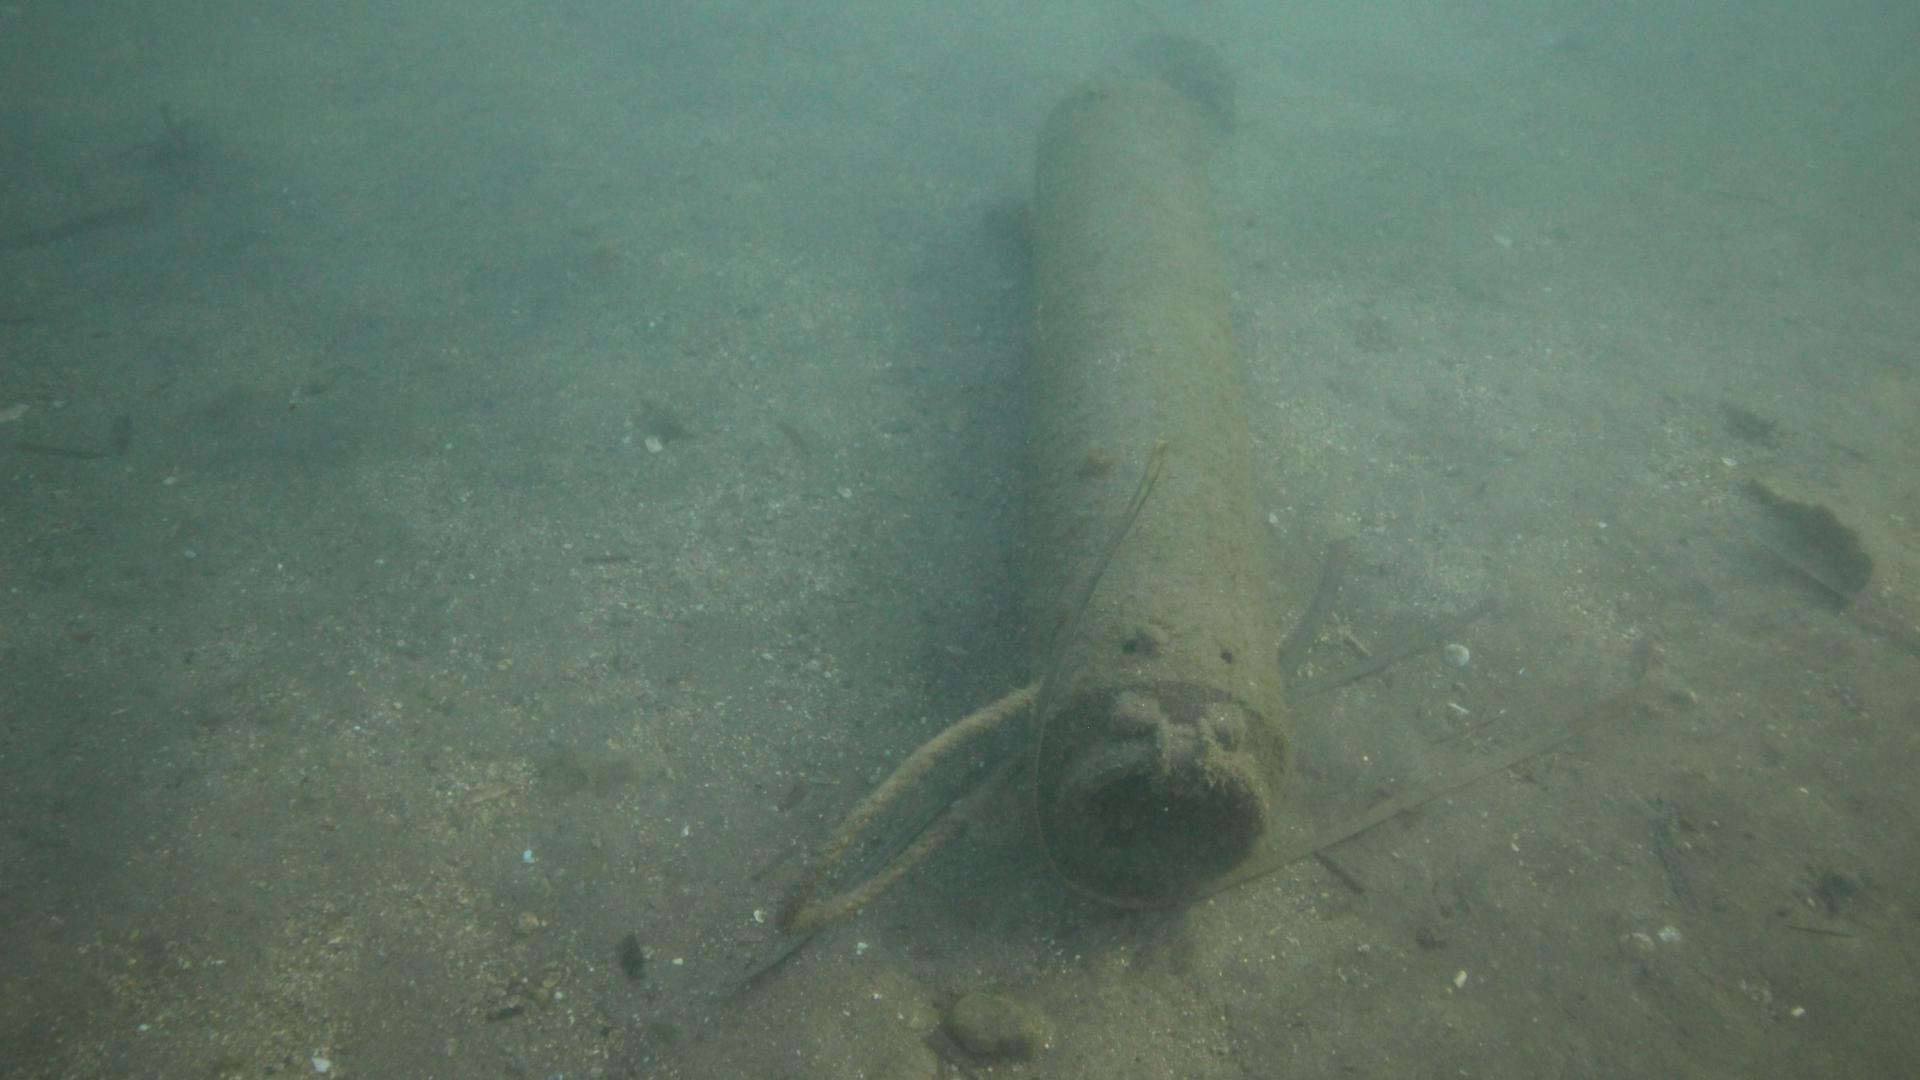eel fish trap: (1034, 78, 1290, 901)
rope: (767, 674, 1044, 938)
